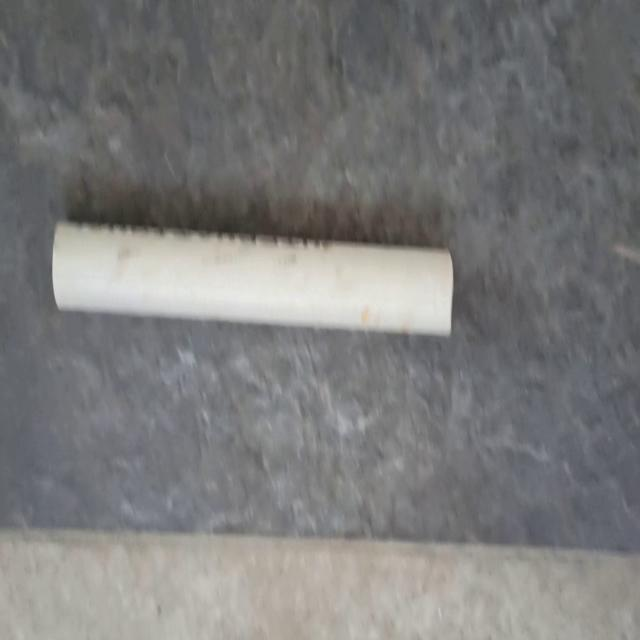Cube: (51, 216, 454, 339)
